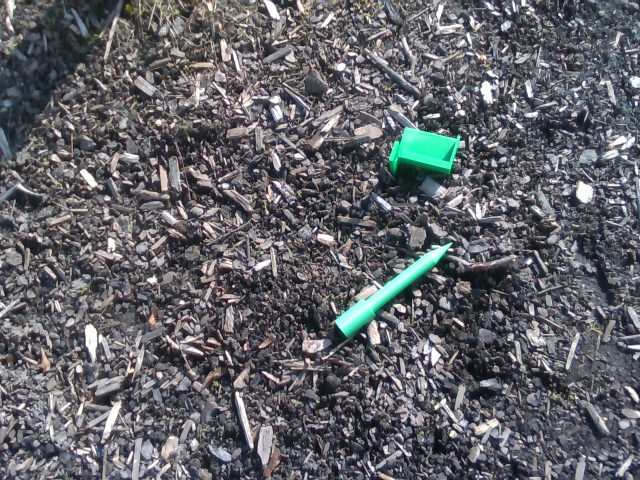Probe: (329, 236, 457, 345)
